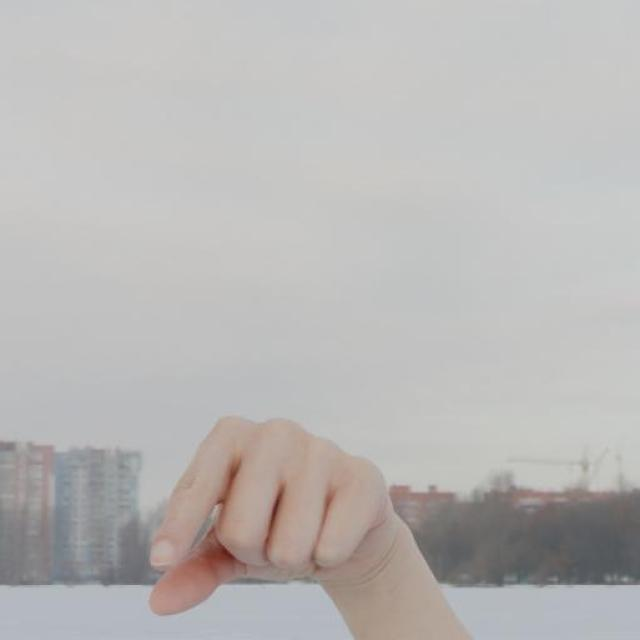Q: (143, 410, 398, 621)
